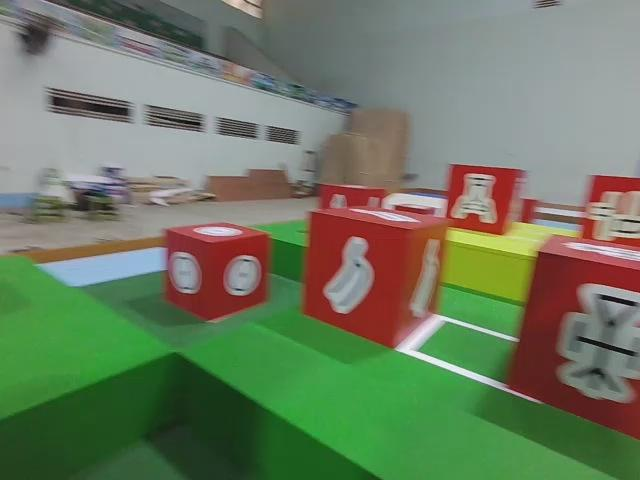R2 Real: (510, 234, 640, 442), (301, 207, 452, 348), (164, 224, 268, 323), (449, 164, 527, 237), (584, 174, 640, 242)
